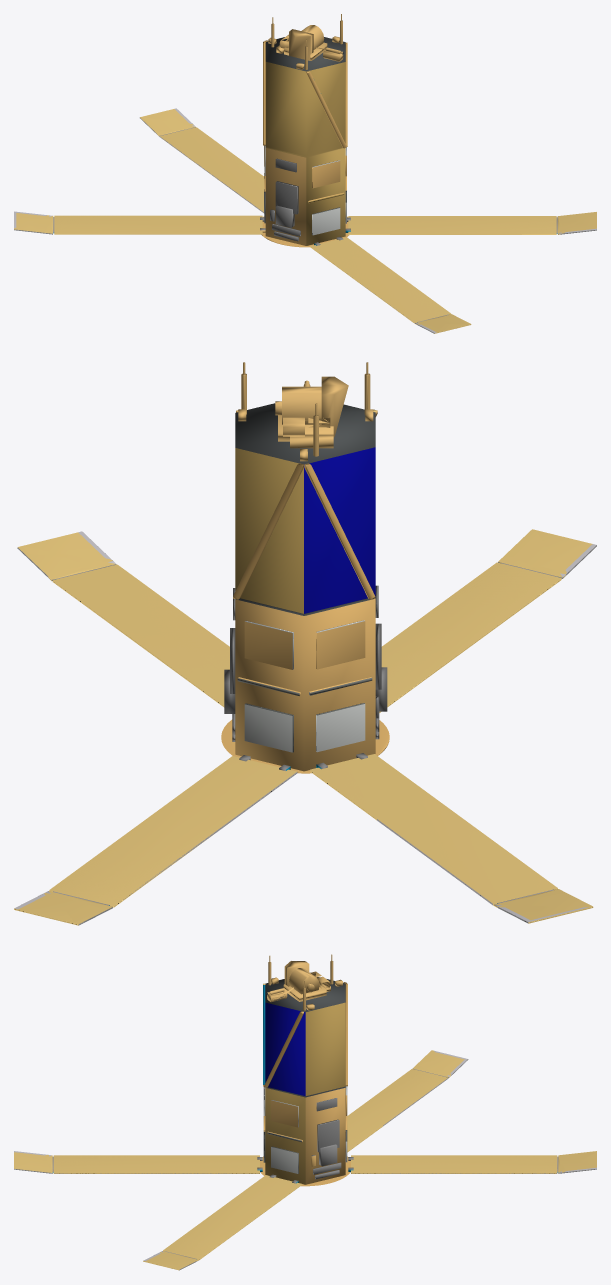
The model's file is seastar.glb.
The picture shows the model from 3 angles, top to bottom: view 1: azimuth 30°, elevation 25°; view 2: azimuth 150°, elevation 25°; view 3: azimuth 270°, elevation 25°; orthographic projection. The views are drawn at different scales.
Parts seen in each view (by area): view 1: Fake; view 2: Fake; view 3: Fake.
Boxes of the visible parts, x1,y1,x2,y2 form: Fake: (14, 14, 596, 333); Fake: (14, 362, 596, 925); Fake: (14, 954, 596, 1270).
Bounding box in the file's own units: 195 × 83.71 × 219.
1 material, 1 textured.
